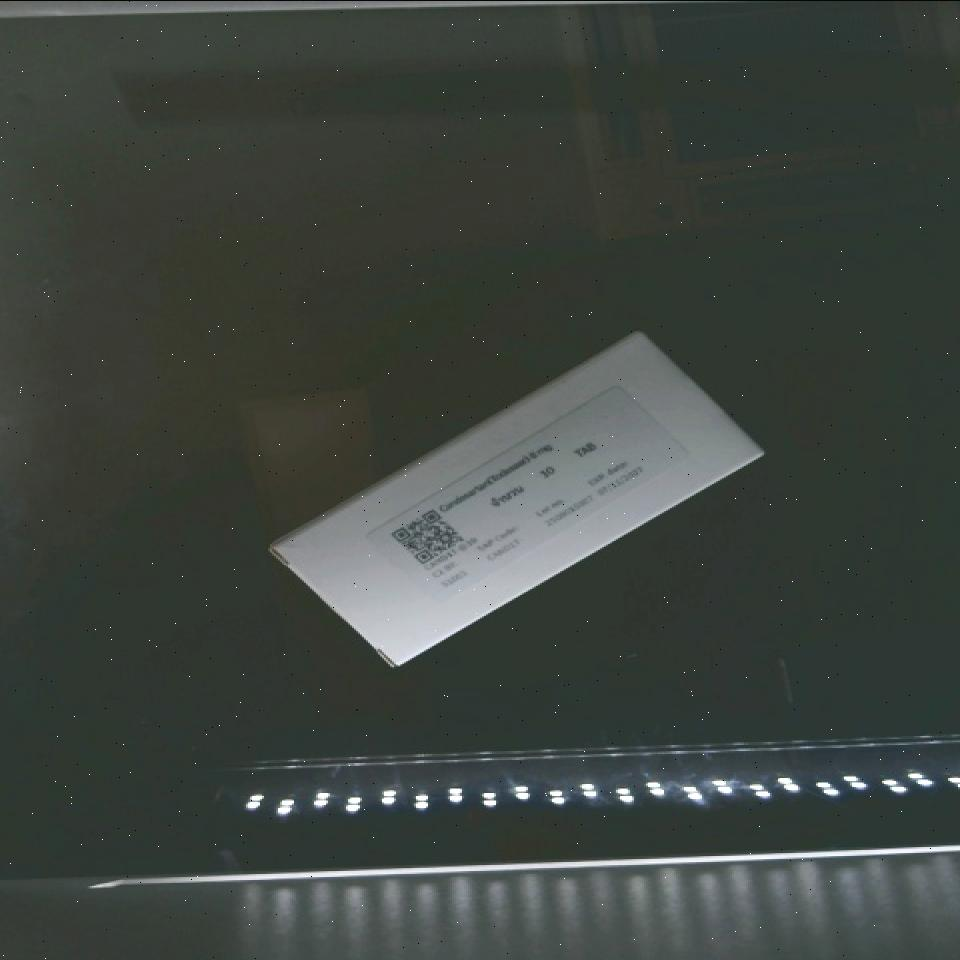medicine_box: (269, 306, 764, 691)
qr_code: (365, 480, 487, 591)
